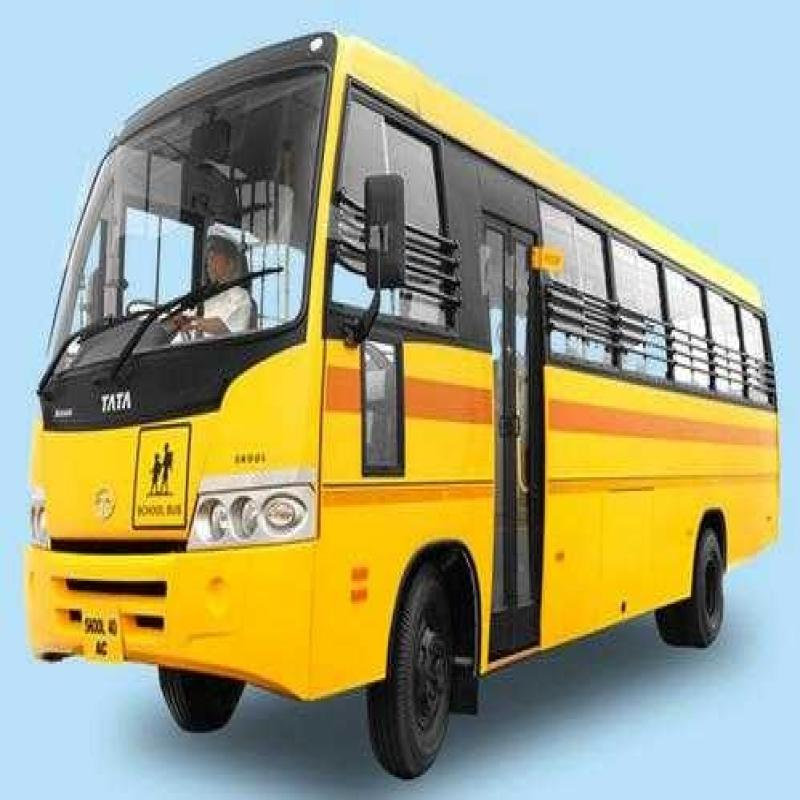bus: (36, 60, 791, 722)
